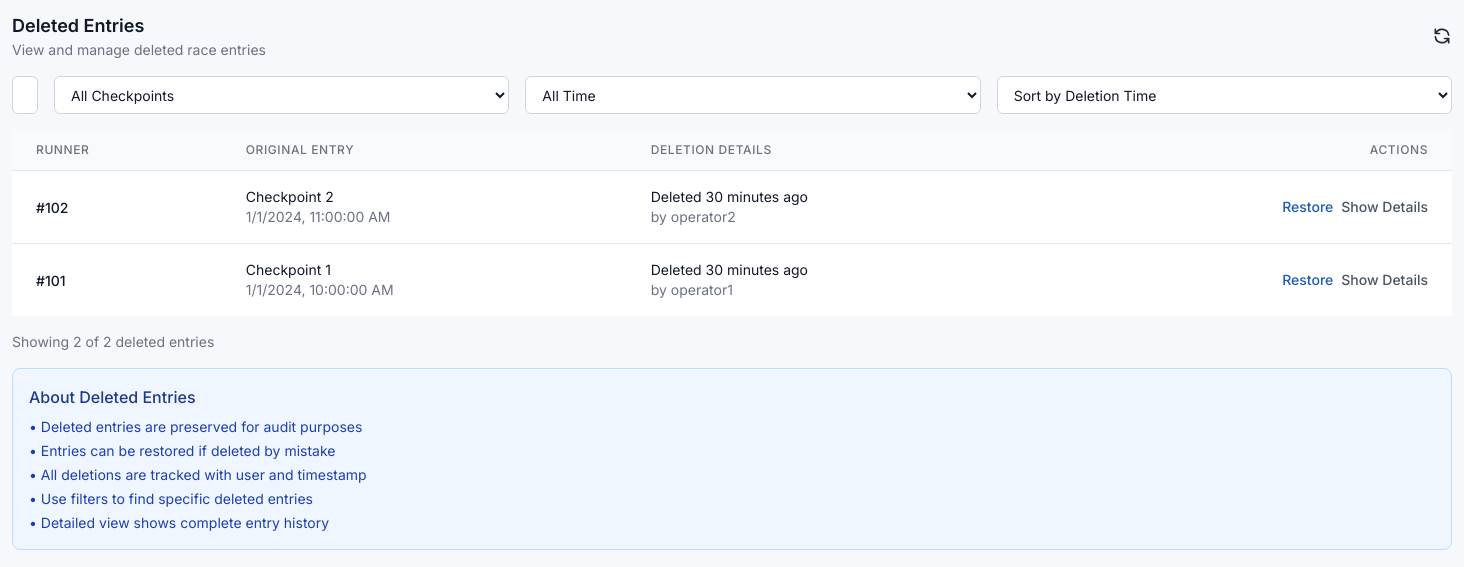
Test: DeletedEntriesView › filters by checkpoint using the select element
Select "Checkpoint 1" in the 1st dropdown showing "All Checkpoints" at point(282, 95), box 54,76 -> 509,114
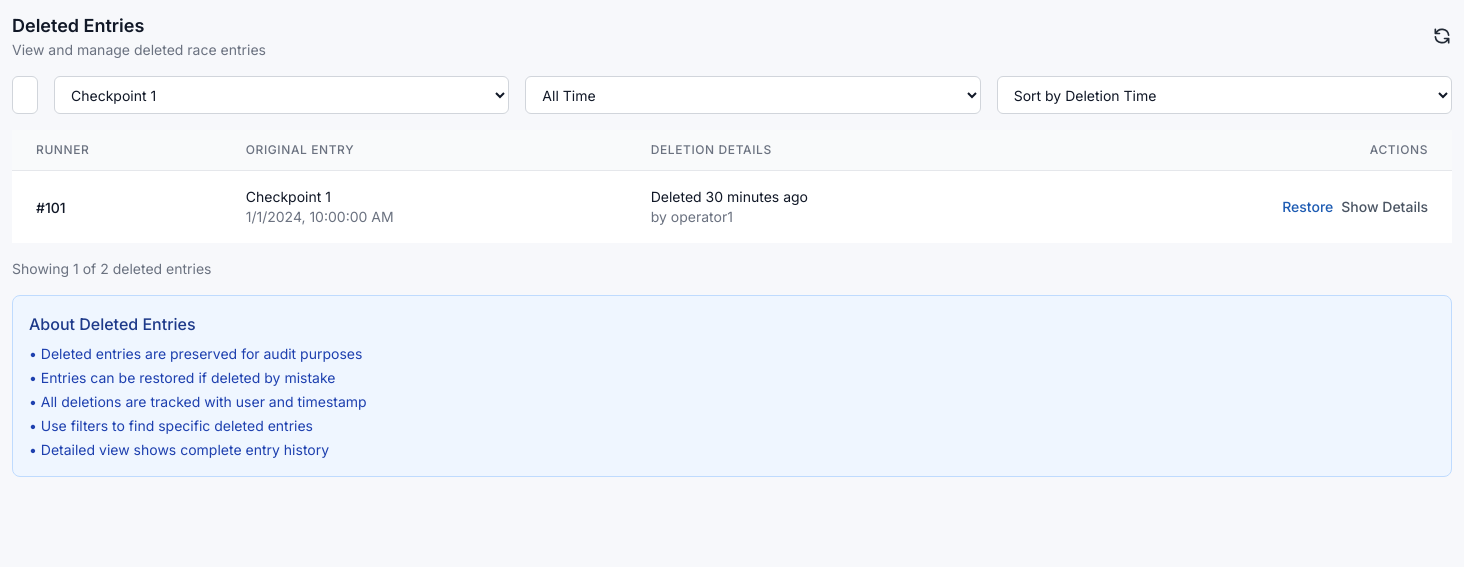
Expected: the text "#101" is shown, 36,199 -> 66,216
Expected: the text "#102" is gone
